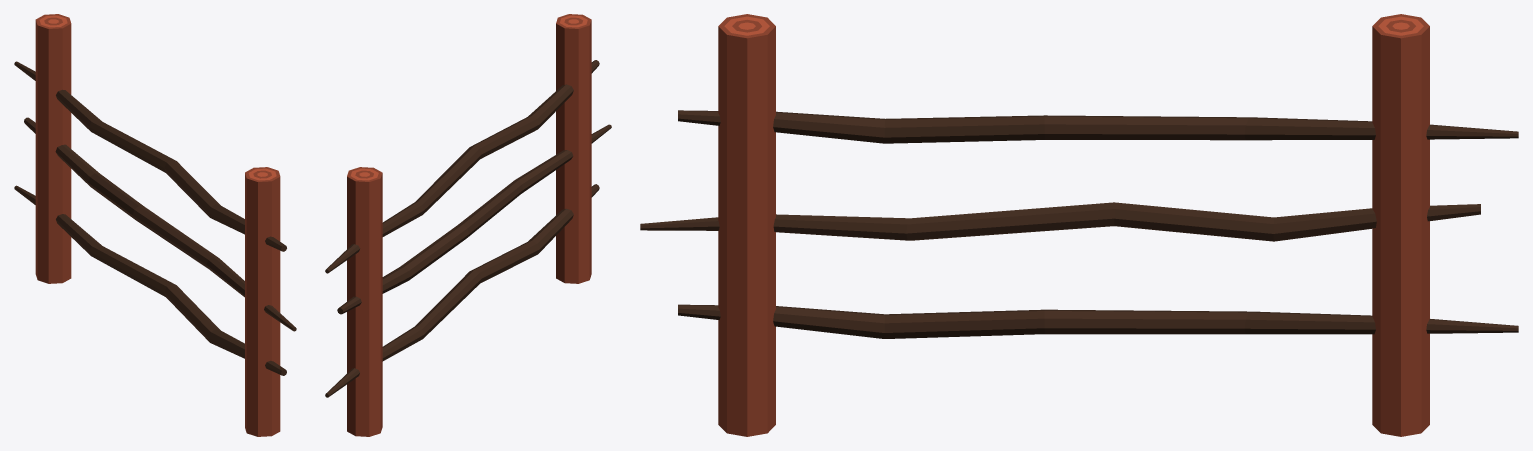
File: Fence.fbx
3 renders of one model, left to right at view 1: azimuth 30°, elevation 25°; view 2: azimuth 150°, elevation 25°; view 3: azimuth 270°, elevation 25°, orthographic. The views are drawn at different scales.
Parts seen in each view (by area): view 1: Cube.006; view 2: Cube.006; view 3: Cube.006.
Part boxes in pixels (left/top/right/bottom): Cube.006: left=14, top=14, right=296, bottom=436; Cube.006: left=325, top=14, right=611, bottom=436; Cube.006: left=640, top=14, right=1518, bottom=436.
Size of the model in its own units: 39.29 by 300 by 599.
